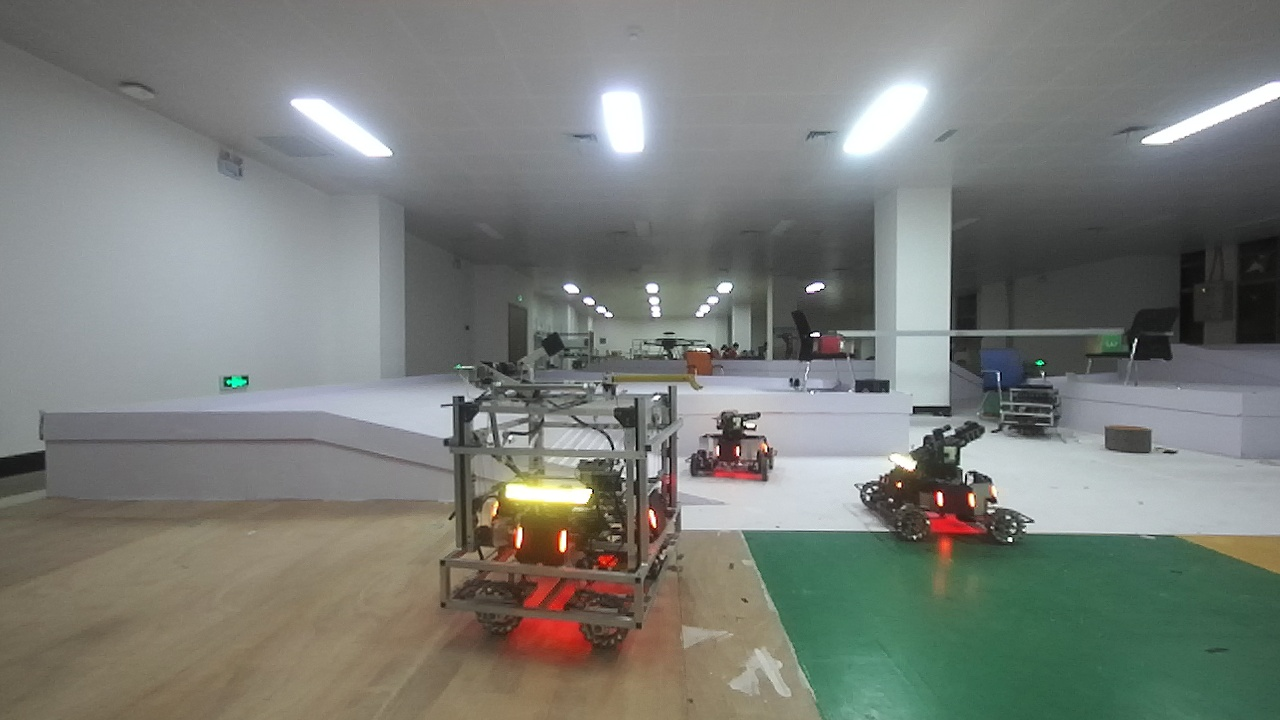car: (424, 369, 706, 652), (861, 406, 1031, 553), (692, 403, 773, 492)
